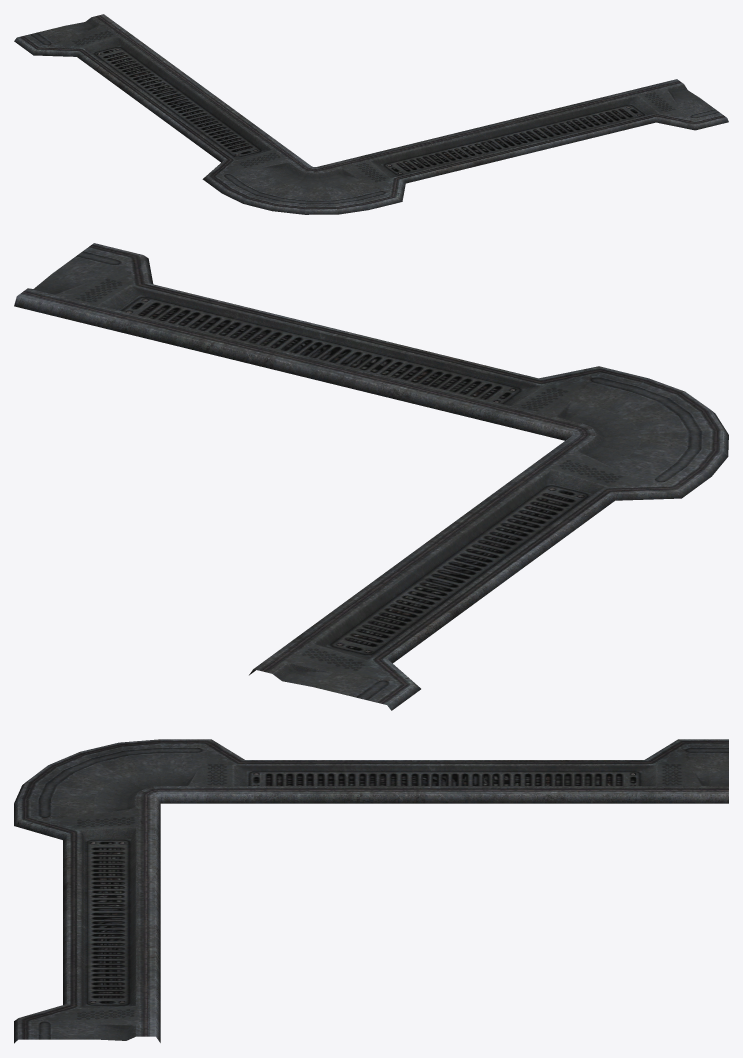
Rendered from living_area_welder_metal_thick_convex.dae.
3 views of the same model, one above another, from view 1: azimuth 30°, elevation 25°; view 2: azimuth 150°, elevation 25°; view 3: azimuth 270°, elevation 25° (orthographic). The views are drawn at different scales.
Parts seen in each view (by area): view 1: convex_short; view 2: convex_short; view 3: convex_short.
Boxes of the visible parts, x1=… form: convex_short: x1=14, y1=14, x2=728, y2=214; convex_short: x1=14, y1=243, x2=728, y2=710; convex_short: x1=14, y1=739, x2=728, y2=1043.
Bounding box in the file's own units: 2.52 × 0.0276 × 2.52.
